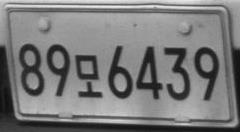3: (163, 47, 191, 101)
4: (135, 45, 163, 99)
6: (106, 44, 133, 100)
8: (18, 42, 45, 96)
9: (193, 45, 220, 101), (45, 43, 70, 97)
모: (74, 54, 103, 98)
